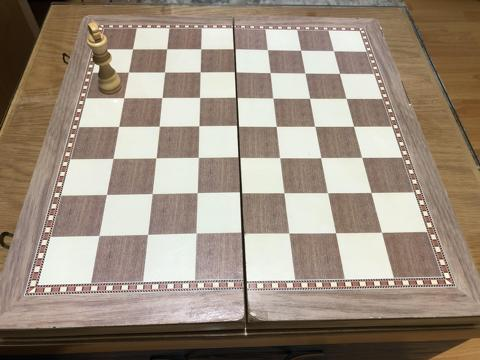xcorner: (296, 44, 309, 57), (230, 43, 243, 56), (334, 67, 347, 80), (231, 66, 244, 79), (160, 65, 173, 78), (124, 65, 137, 78), (341, 92, 354, 105), (232, 91, 245, 104), (195, 91, 208, 104), (157, 91, 170, 104), (194, 119, 207, 132), (154, 119, 167, 132), (114, 119, 127, 132), (357, 151, 370, 164), (276, 151, 289, 164), (235, 151, 248, 164), (193, 151, 206, 164), (151, 151, 164, 164), (366, 186, 379, 199), (192, 187, 205, 200), (331, 226, 344, 239), (285, 227, 298, 240), (191, 228, 204, 241), (143, 229, 156, 242), (328, 45, 341, 57), (263, 44, 276, 56), (196, 43, 209, 55), (163, 42, 175, 55), (128, 42, 141, 54), (300, 67, 313, 79), (266, 66, 278, 79), (305, 92, 318, 104), (269, 92, 282, 104), (119, 91, 132, 103), (272, 120, 285, 132), (233, 120, 246, 132), (317, 151, 329, 164), (108, 152, 121, 164), (324, 186, 336, 199), (280, 187, 293, 199), (237, 187, 249, 200), (147, 188, 160, 200), (102, 188, 114, 201), (377, 226, 390, 238), (238, 228, 251, 240), (94, 230, 107, 242), (196, 66, 208, 78), (349, 120, 361, 132), (311, 120, 323, 132)
